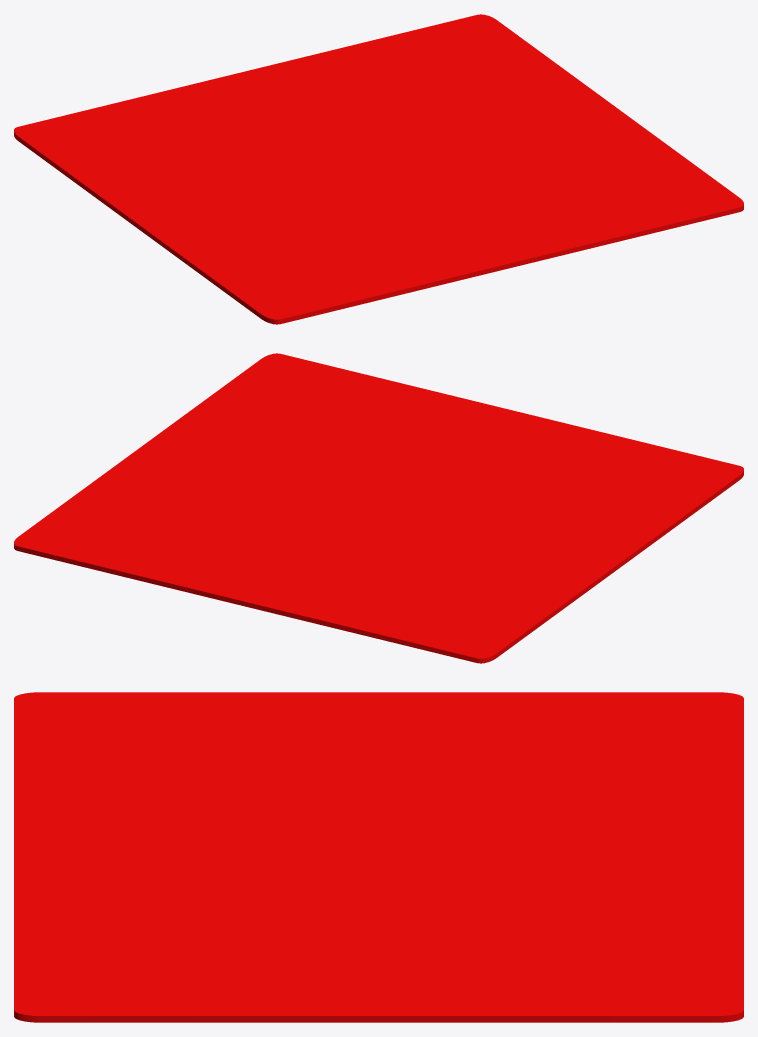
3 views of the same model, one above another, from view 1: azimuth 30°, elevation 25°; view 2: azimuth 150°, elevation 25°; view 3: azimuth 270°, elevation 25° (orthographic). The views are drawn at different scales.
Visible parts, largest first — view 1: Plane.005; view 2: Plane.005; view 3: Plane.005.
Boxes of the visible parts, <box> form: Plane.005: <box>14,14,743,324</box>; Plane.005: <box>14,353,743,663</box>; Plane.005: <box>14,692,743,1022</box>.
Bounding box in the file's own units: 2.1 × 0.02 × 2.
